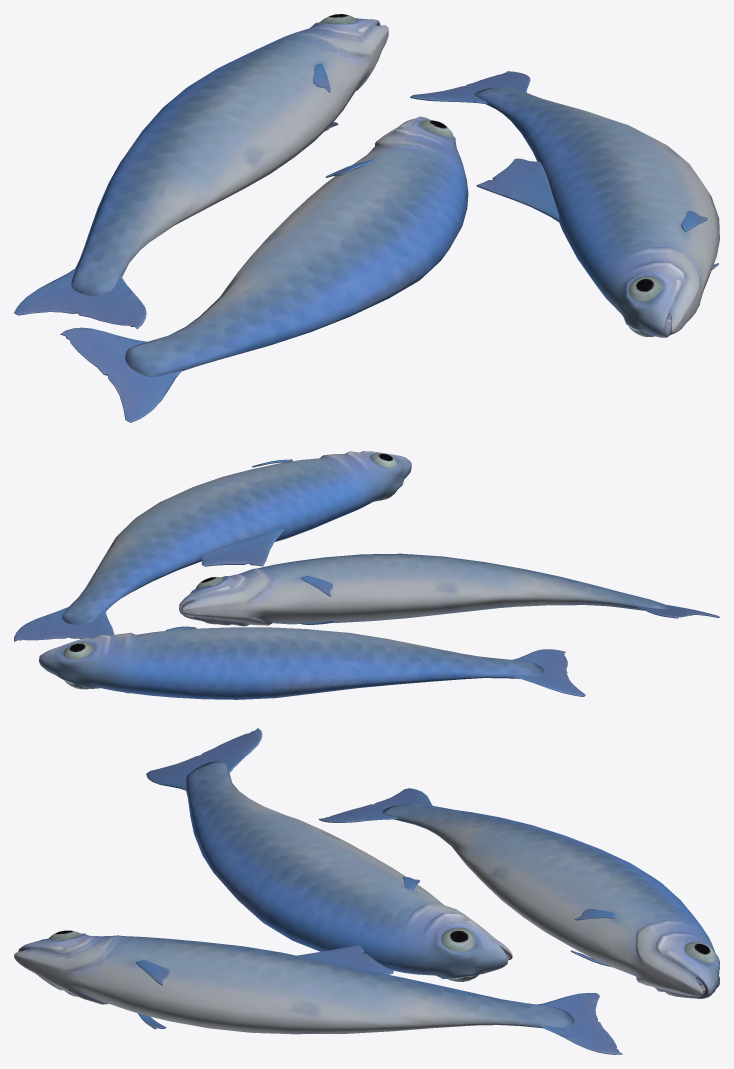
The picture shows the model from 3 angles, top to bottom: view 1: azimuth 30°, elevation 25°; view 2: azimuth 150°, elevation 25°; view 3: azimuth 270°, elevation 25°; orthographic projection. The views are drawn at different scales.
Visible parts, largest first — view 1: SM_Anchovy_Raw_01_LOD0; view 2: SM_Anchovy_Raw_01_LOD0; view 3: SM_Anchovy_Raw_01_LOD0.
Part boxes in pixels (x1=…): SM_Anchovy_Raw_01_LOD0: x1=14, y1=14, x2=719, y2=422; SM_Anchovy_Raw_01_LOD0: x1=14, y1=451, x2=719, y2=699; SM_Anchovy_Raw_01_LOD0: x1=14, y1=728, x2=719, y2=1054.
Size of the model in its own units: 0.3213 by 0.037 by 0.3292.
1 material, 1 textured.
